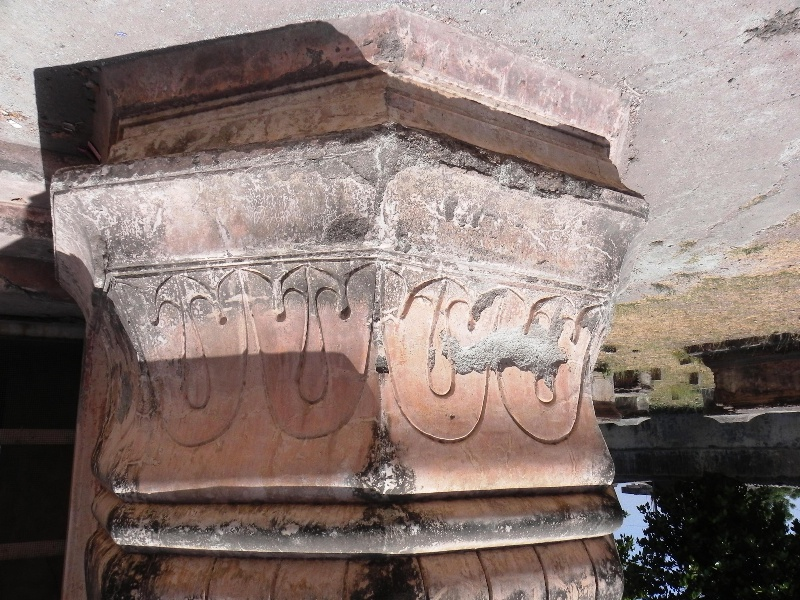Spalling: (306, 117, 609, 218), (436, 310, 574, 389)
